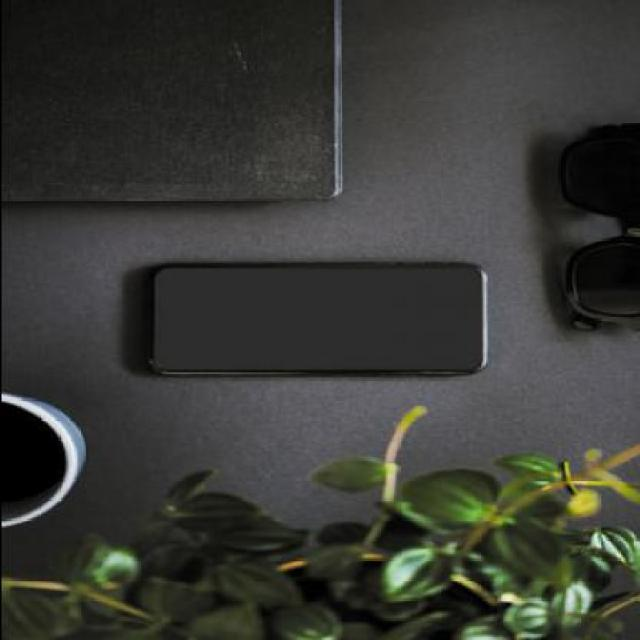phone: (137, 262, 493, 379)
